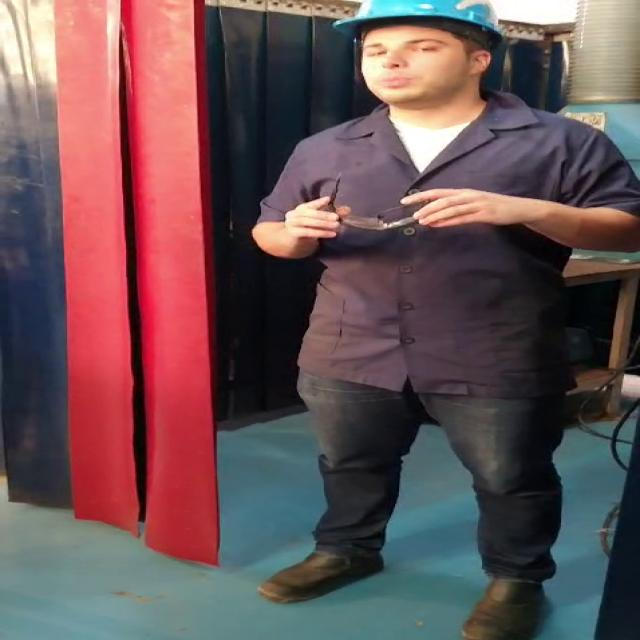sem_oculos: (340, 35, 482, 69)
